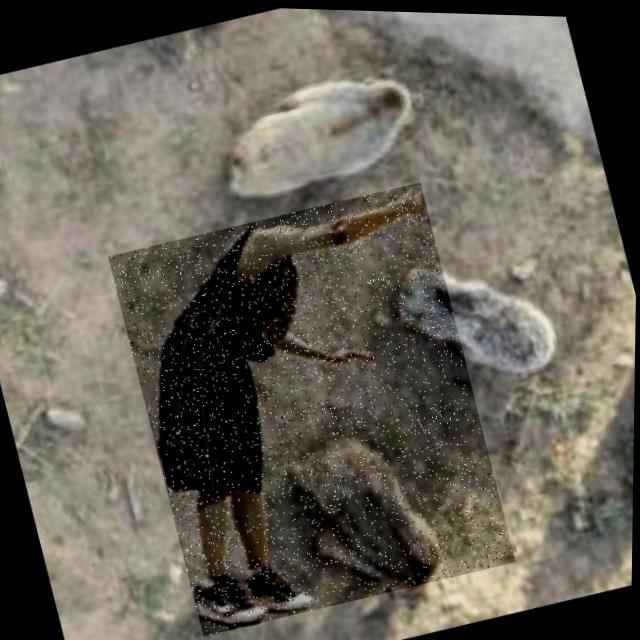Person in Rubble: (104, 172, 522, 640)
